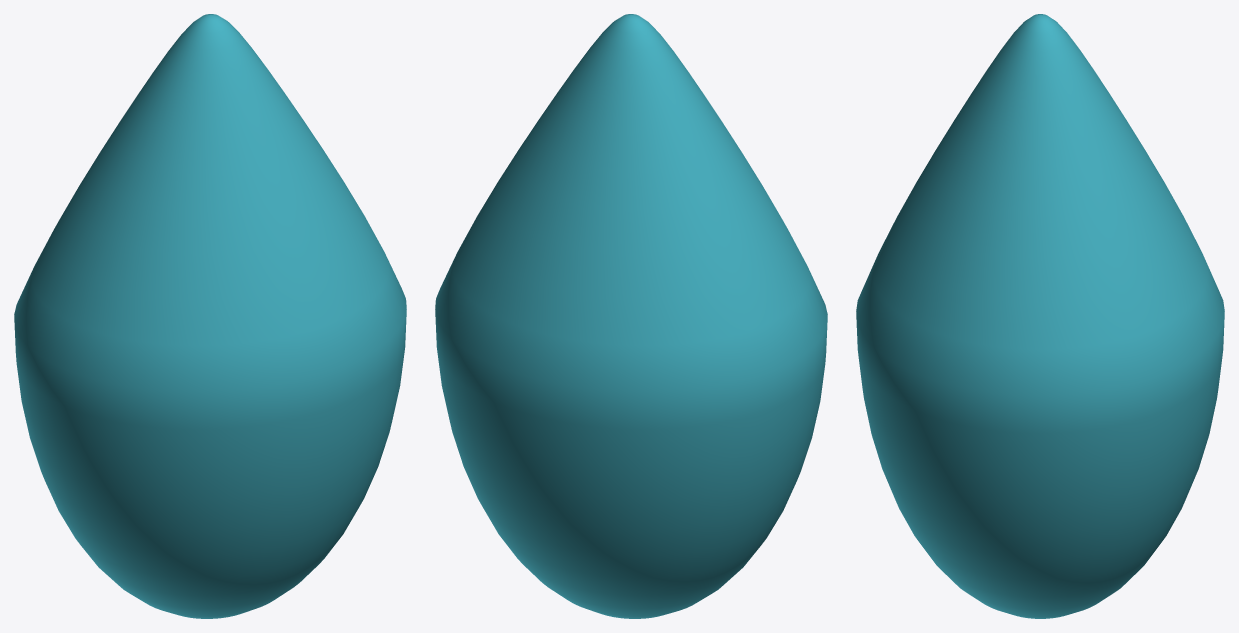
Rendered from material-water-drop.glb.
The picture shows the model from 3 angles, left to right: view 1: azimuth 30°, elevation 25°; view 2: azimuth 150°, elevation 25°; view 3: azimuth 270°, elevation 25°; orthographic projection.
Parts seen in each view (by area): view 1: Flow drop; view 2: Flow drop; view 3: Flow drop.
Part boxes in pixels (x1,y1,x2,y2): Flow drop: (14,14,406,618); Flow drop: (435,14,827,618); Flow drop: (856,14,1224,618).
Size of the model in its own units: 0.52 by 0.85 by 0.48.
